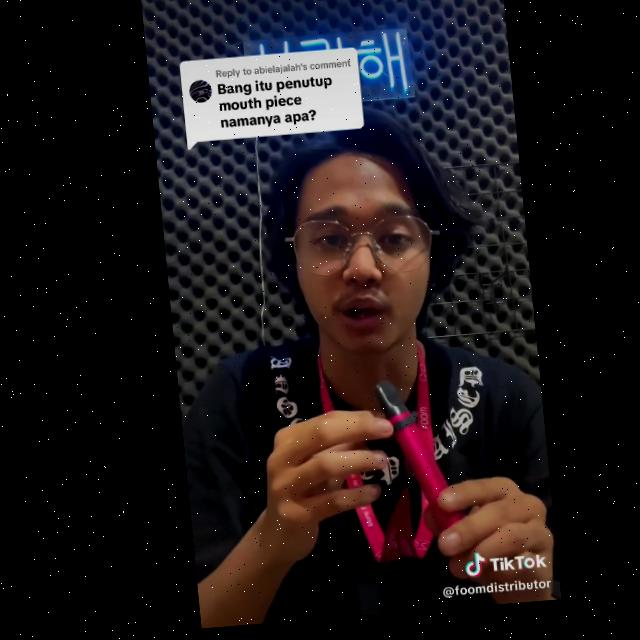vape: (366, 377, 451, 541)
